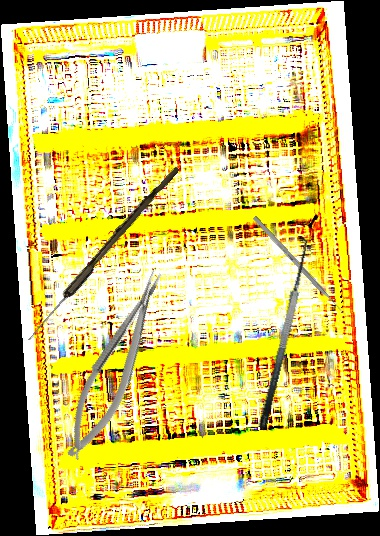Needle Holder: (51, 265, 182, 466)
Pusher: (252, 215, 348, 318)
Spatula Surgical: (241, 235, 319, 430)
Surgical Spoon: (25, 163, 180, 344)
